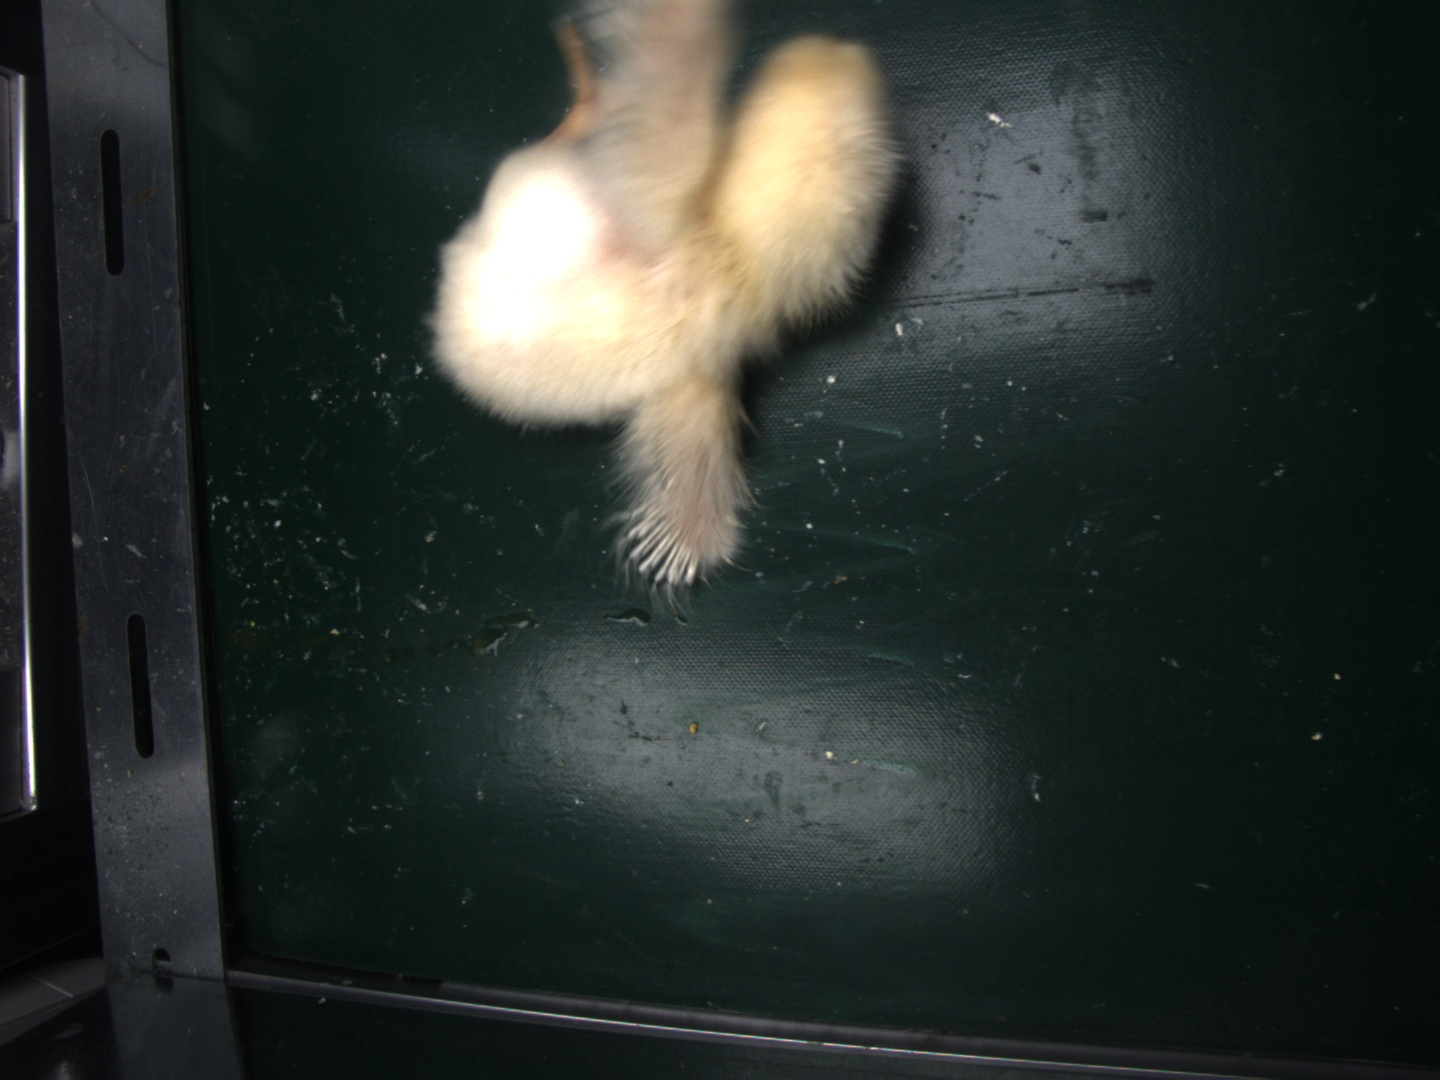male: (627, 493, 703, 587)
